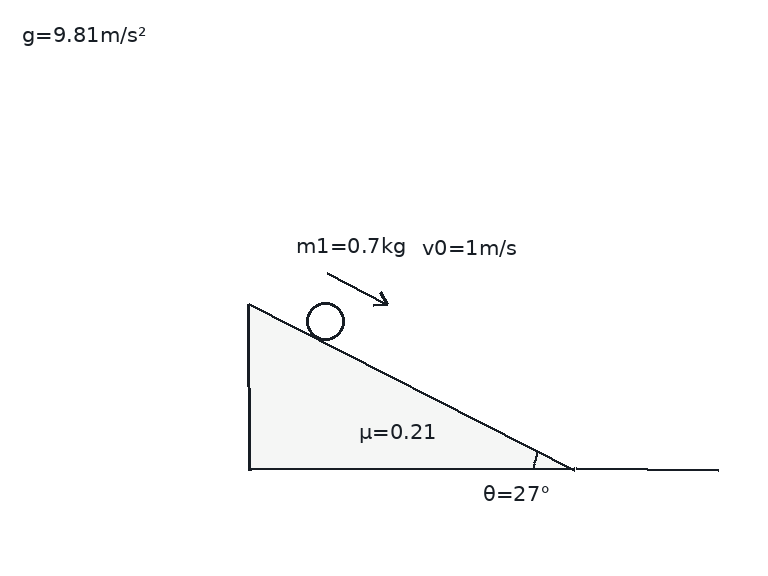ball: (304, 300, 346, 342)
ramp: (248, 302, 576, 471)
